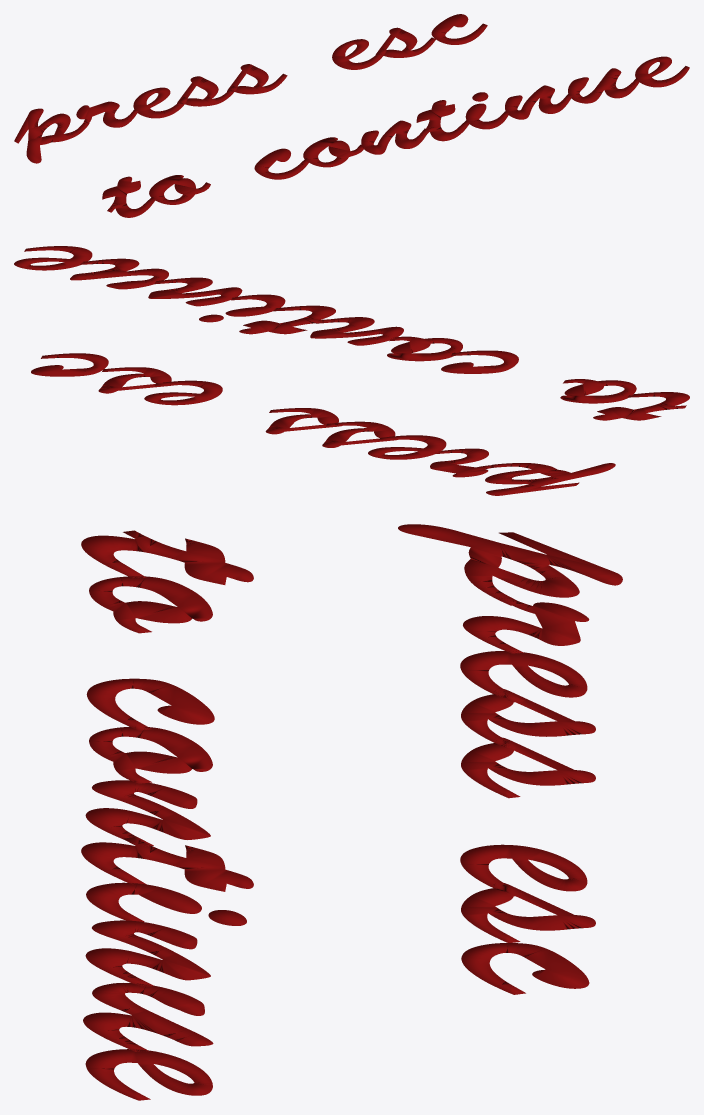
The model's file is continue.obj.
The picture shows the model from 3 angles, top to bottom: view 1: azimuth 30°, elevation 25°; view 2: azimuth 150°, elevation 25°; view 3: azimuth 270°, elevation 25°; orthographic projection. The views are drawn at different scales.
Parts seen in each view (by area): view 1: TextPlus001; view 2: TextPlus001; view 3: TextPlus001.
Boxes of the visible parts, left/top/right/bottom form: TextPlus001: left=14, top=14, right=689, bottom=217; TextPlus001: left=14, top=246, right=689, bottom=495; TextPlus001: left=81, top=524, right=622, bottom=1100.
Bounding box in the file's own units: 91.04 × 0.001 × 36.16.
